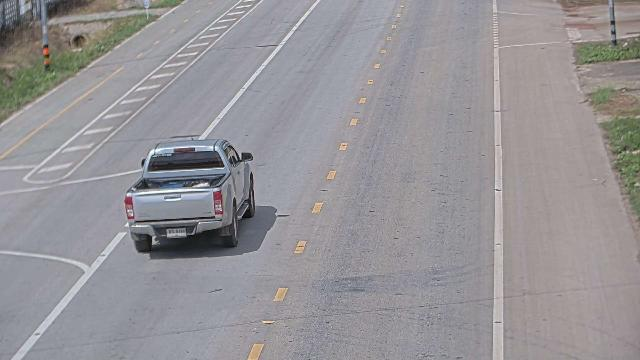pickup-truck: (123, 136, 256, 253)
